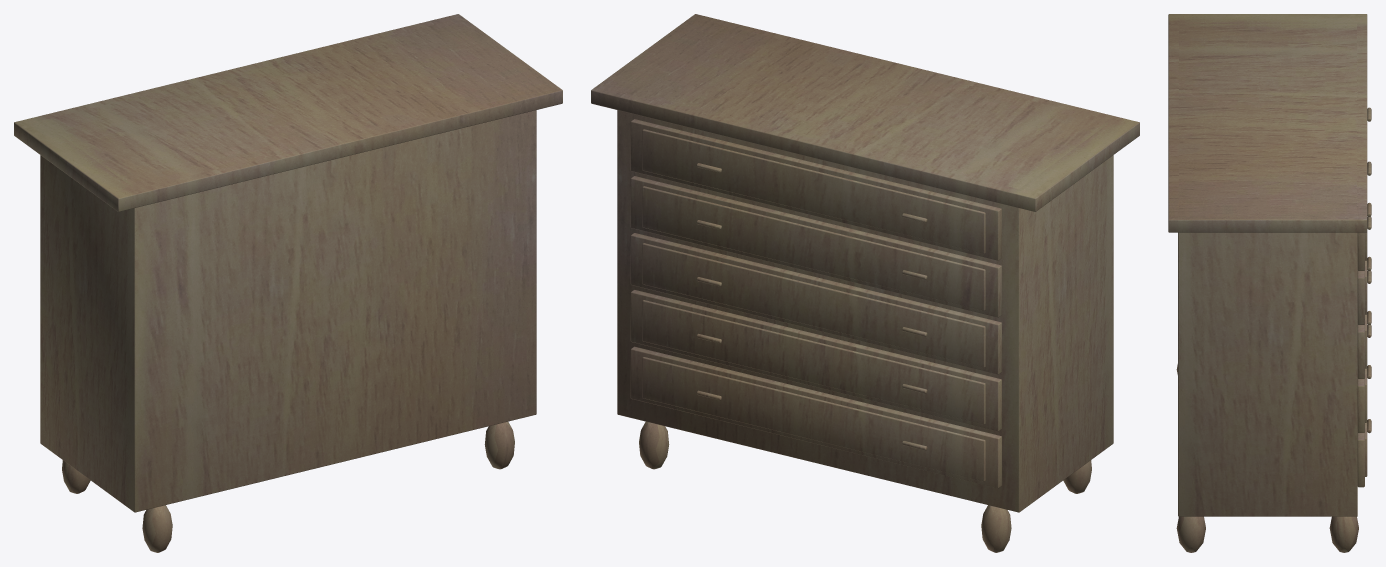
The model's file is Antique_Chest_11.fbx.
The picture shows the model from 3 angles, left to right: view 1: azimuth 30°, elevation 25°; view 2: azimuth 150°, elevation 25°; view 3: azimuth 270°, elevation 25°; orthographic projection. The views are drawn at different scales.
Visible parts, largest first — view 1: Antique_Chest; view 2: Antique_Chest; view 3: Antique_Chest.
Boxes of the visible parts, x1,y1,x2,y2 form: Antique_Chest: [14, 14, 562, 552]; Antique_Chest: [591, 14, 1139, 552]; Antique_Chest: [1168, 14, 1371, 552].
Size of the model in its own units: 1.68 by 1.36 by 0.7007.
1 material, 1 textured.
